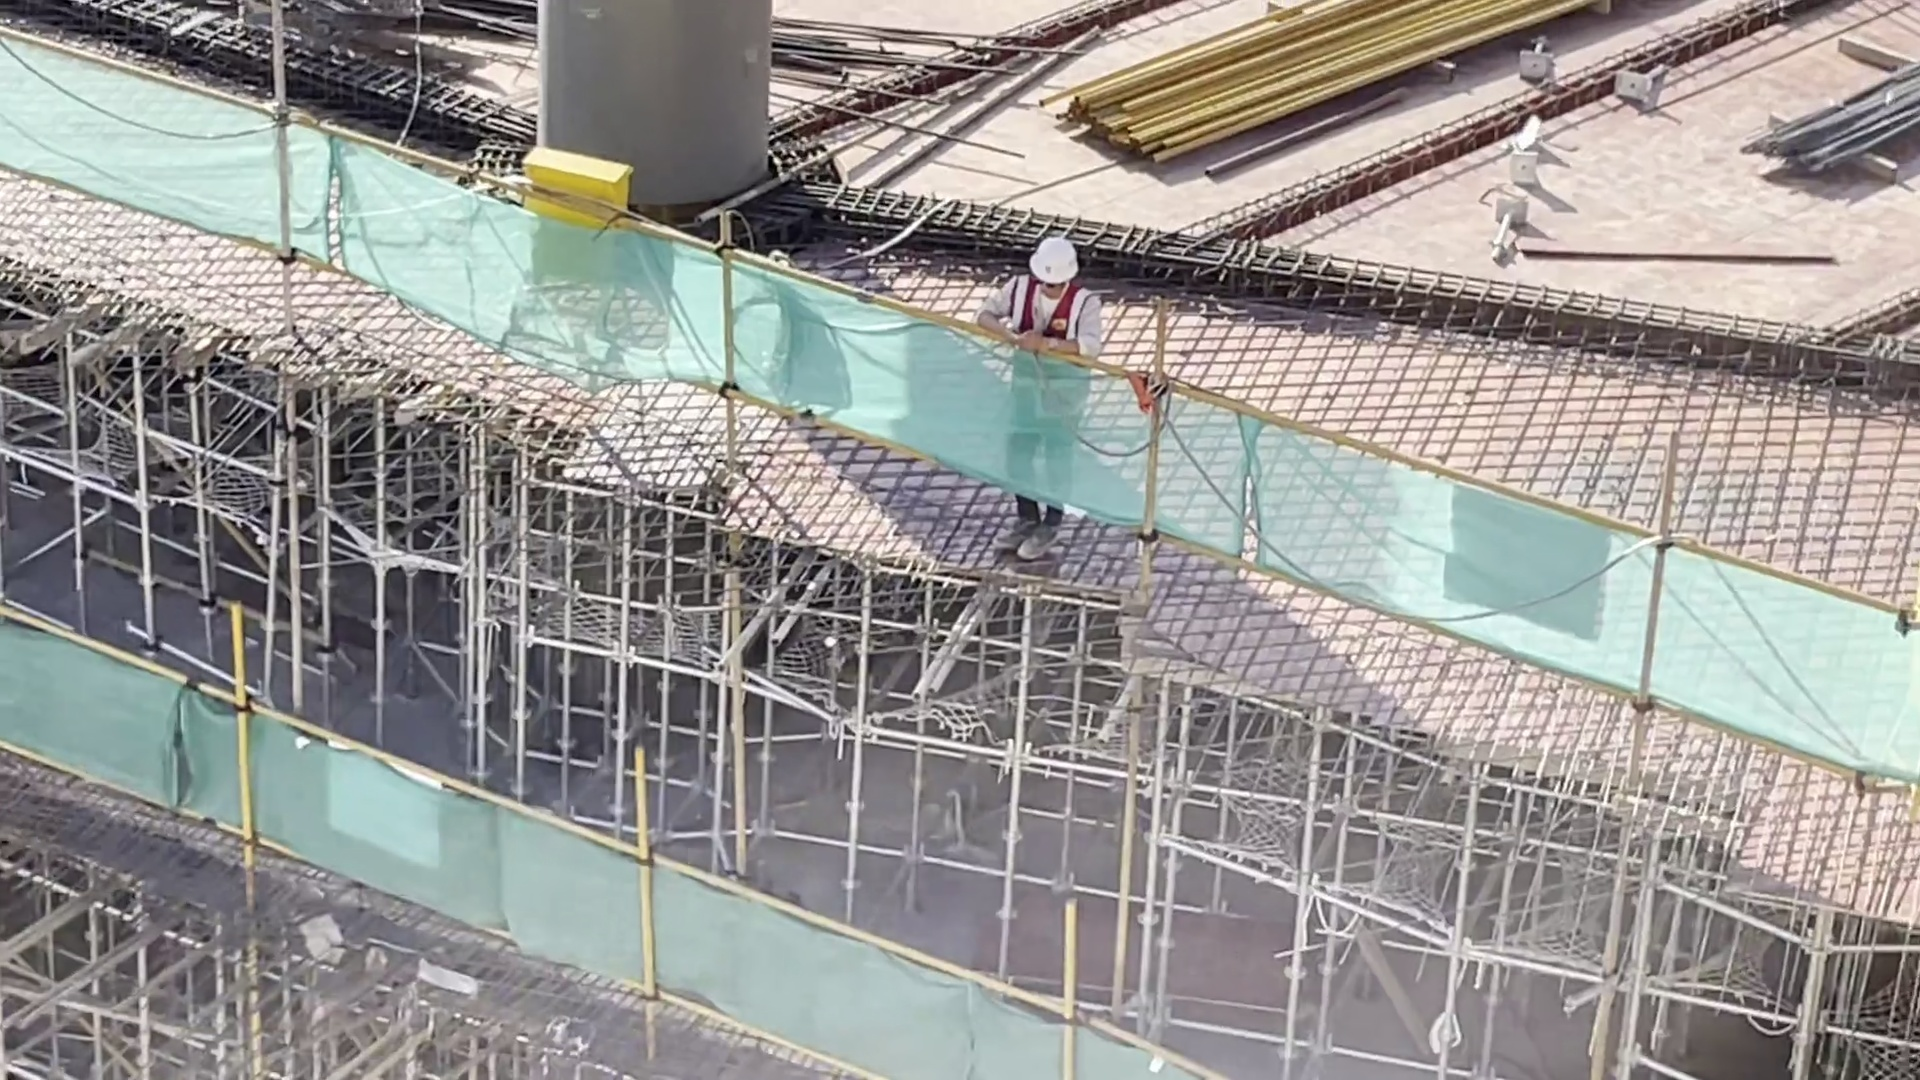ebox: (511, 131, 638, 324)
helmet: (1020, 241, 1085, 293)
person: (982, 226, 1097, 574)
vest: (1009, 282, 1085, 434)
